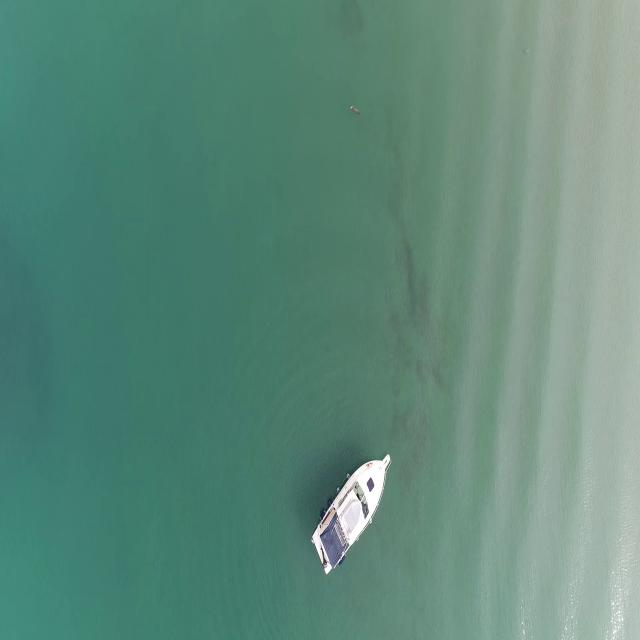boat: (313, 448, 392, 581)
wood: (349, 102, 362, 116)
